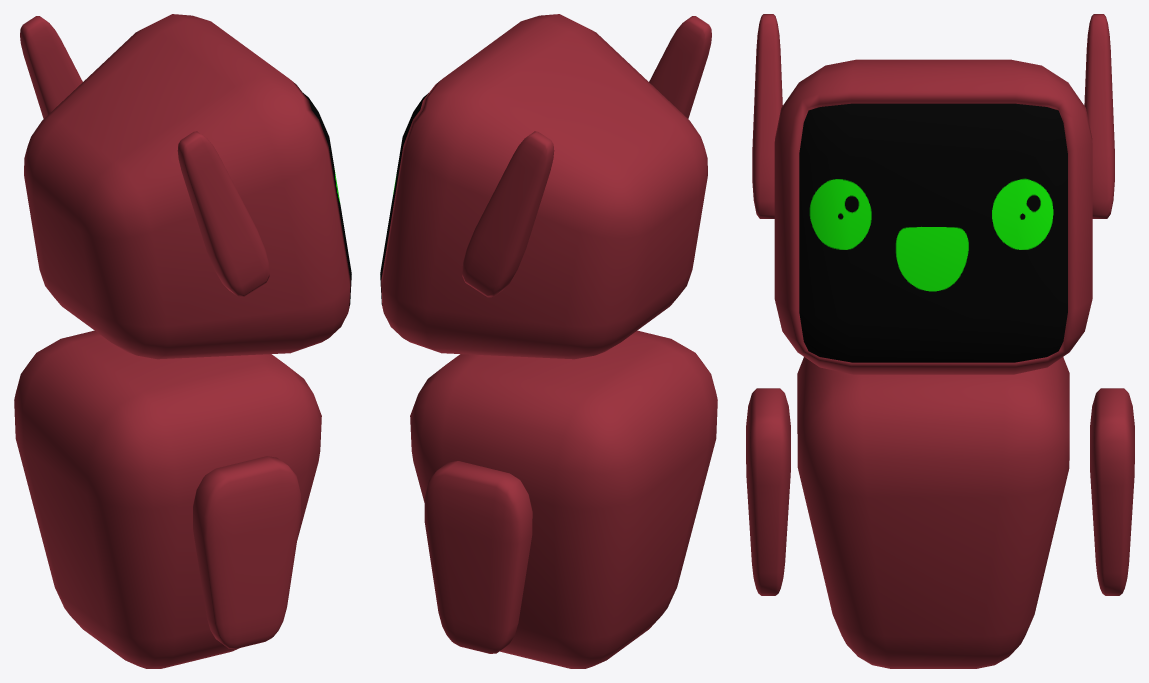
Rendered from pobot2.glb.
3 views of the same model, side by side, from view 1: azimuth 30°, elevation 25°; view 2: azimuth 150°, elevation 25°; view 3: azimuth 270°, elevation 25° (orthographic). The views are drawn at different scales.
Visible parts, largest first — view 1: Head, Cube.001, Cube.002; view 2: Head, Cube.001, Cube.003; view 3: Head, Cube.001, Cube.002, Cube.003.
Boxes of the visible parts, bbox=[...] form: Head: bbox=[20, 14, 351, 359]; Cube.001: bbox=[14, 330, 321, 668]; Cube.002: bbox=[193, 456, 300, 649]; Head: bbox=[380, 14, 711, 359]; Cube.001: bbox=[410, 330, 717, 668]; Cube.003: bbox=[424, 461, 532, 653]; Head: bbox=[752, 14, 1114, 374]; Cube.001: bbox=[797, 357, 1069, 668]; Cube.002: bbox=[746, 388, 790, 595]; Cube.003: bbox=[1090, 388, 1134, 595].
Bounding box in the file's own units: 1.26 × 2.85 × 1.65.
Materials: 2 (1 with a texture image).
